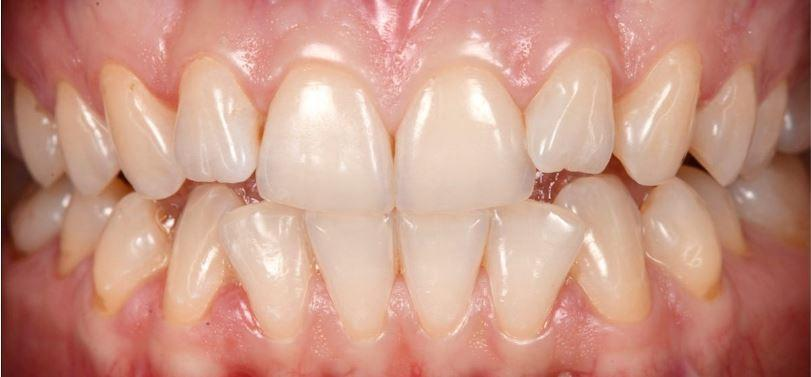1st Molar: (735, 162, 811, 240), (12, 178, 69, 254), (780, 73, 810, 152)
1st Premolar: (645, 180, 721, 301), (53, 77, 123, 199), (94, 193, 166, 310), (692, 61, 757, 184)
2nd Premolar: (63, 178, 121, 272), (17, 76, 64, 189), (740, 80, 788, 181), (700, 173, 745, 254)
Canine: (617, 34, 706, 190), (559, 176, 649, 322), (102, 60, 183, 201), (164, 179, 241, 327)
Central Incisor: (256, 57, 394, 216), (393, 61, 533, 211), (396, 209, 492, 347), (309, 209, 397, 343)
Lateral Incisor: (490, 201, 585, 344), (220, 201, 311, 344), (527, 41, 615, 174), (174, 49, 256, 186)
